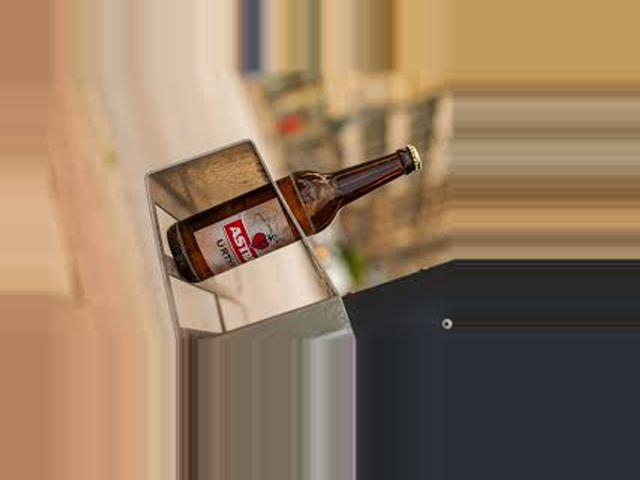beer: (165, 143, 422, 284)
